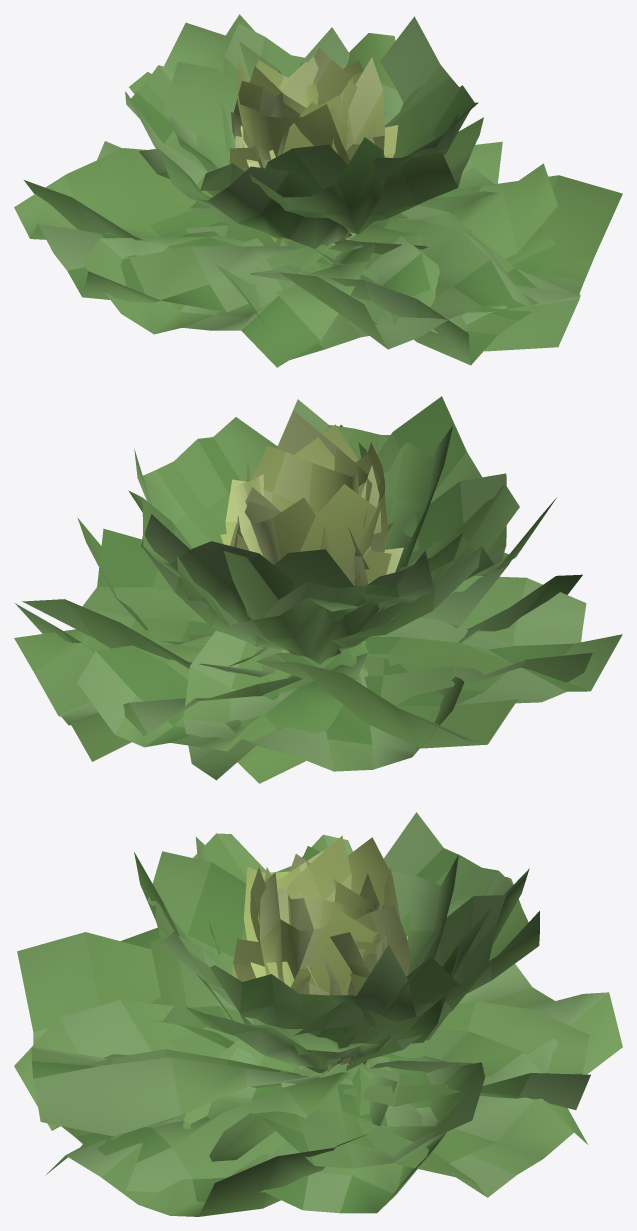
File: salade_laitue_pomme.glb
3 renders of one model, top to bottom at view 1: azimuth 30°, elevation 25°; view 2: azimuth 150°, elevation 25°; view 3: azimuth 270°, elevation 25°, orthographic. The views are drawn at different scales.
Parts seen in each view (by area): view 1: Salade_Feuilles_ext, Salade_Feuilles_int; view 2: Salade_Feuilles_ext, Salade_Feuilles_int; view 3: Salade_Feuilles_ext, Salade_Feuilles_int.
Boxes of the visible parts, x1,y1,x2,y2 form: Salade_Feuilles_ext: (14, 14, 622, 367); Salade_Feuilles_int: (229, 48, 398, 245); Salade_Feuilles_ext: (14, 396, 622, 783); Salade_Feuilles_int: (220, 411, 403, 657); Salade_Feuilles_ext: (14, 812, 622, 1216); Salade_Feuilles_int: (232, 835, 410, 1072).
Bounding box in the file's own units: 0.4539 × 0.199 × 0.4187.
